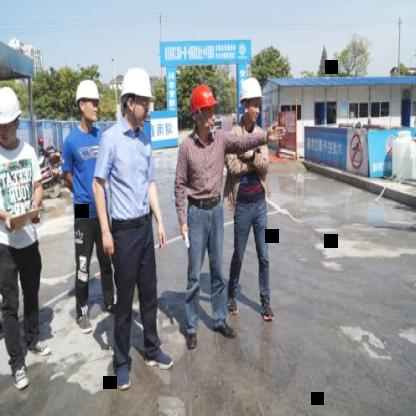helmet: (117, 66, 157, 126), (190, 84, 224, 136), (0, 80, 22, 152), (73, 78, 101, 124), (240, 78, 264, 124)
